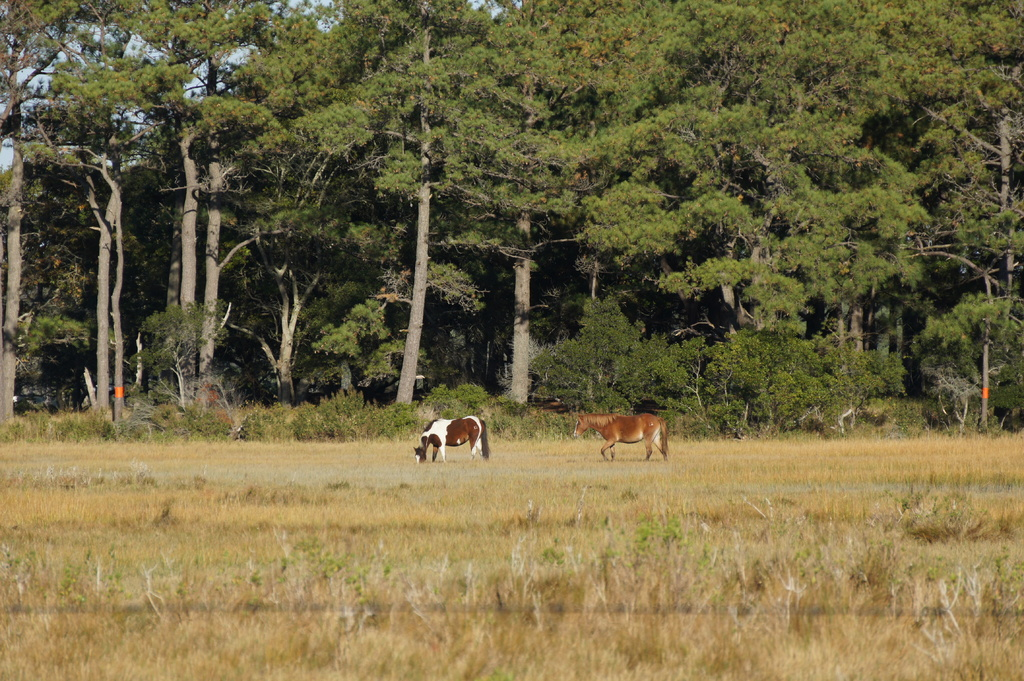horse: (572, 407, 676, 468), (406, 418, 490, 460)
